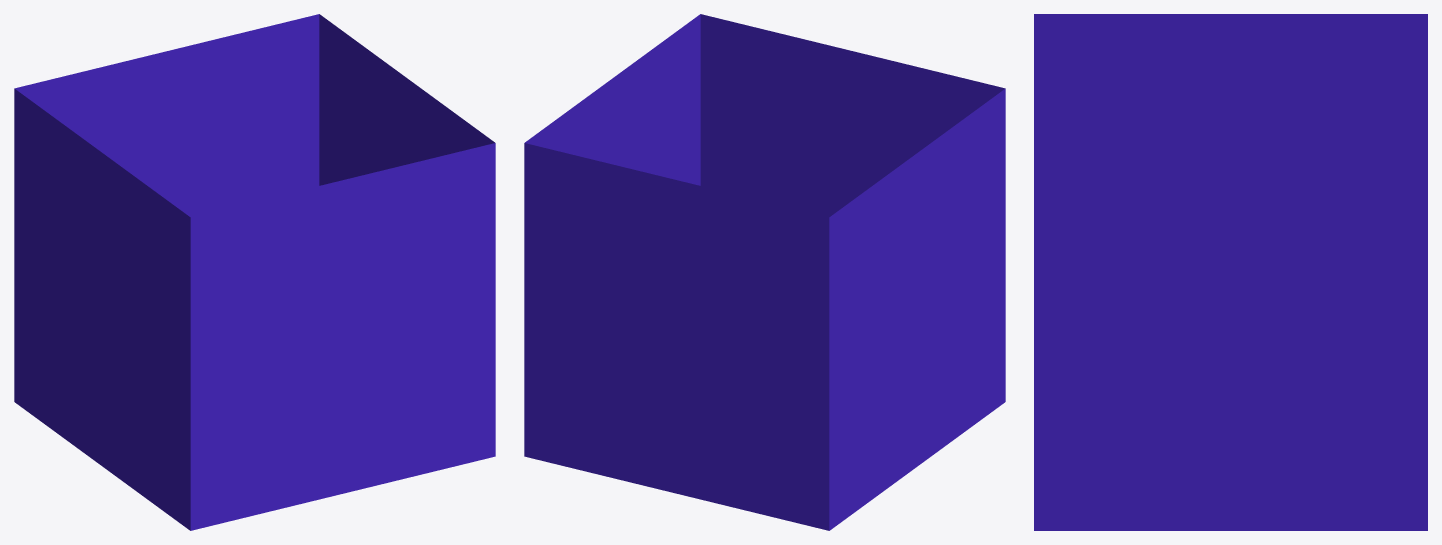
File: base_map_new.glb
The picture shows the model from 3 angles, left to right: view 1: azimuth 30°, elevation 25°; view 2: azimuth 150°, elevation 25°; view 3: azimuth 270°, elevation 25°; orthographic projection. The views are drawn at different scales.
Parts seen in each view (by area): view 1: Bg; view 2: Bg; view 3: Bg.
Boxes of the visible parts, box(x1,y1,x2,y2) form: Bg: box(14, 14, 495, 530); Bg: box(524, 14, 1005, 530); Bg: box(1034, 14, 1427, 530).
Bounding box in the file's own units: 277 × 272 × 277.
